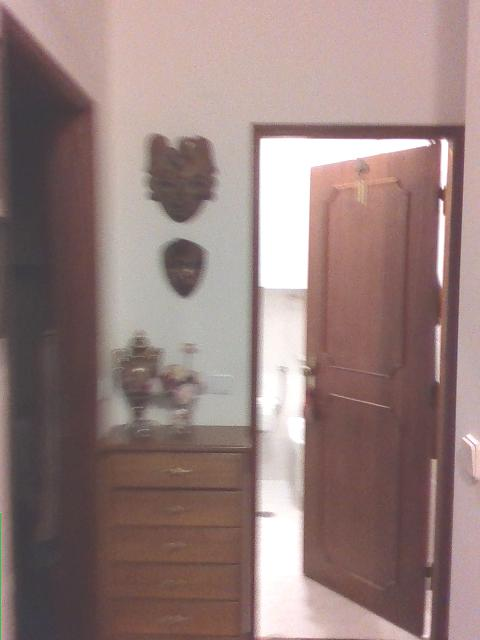semi_door: (250, 120, 466, 639)
